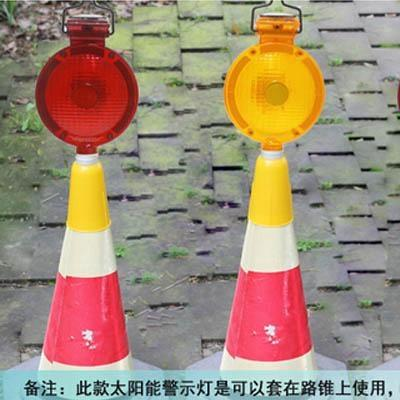cone_barrel: (32, 133, 138, 376), (214, 138, 320, 377)
